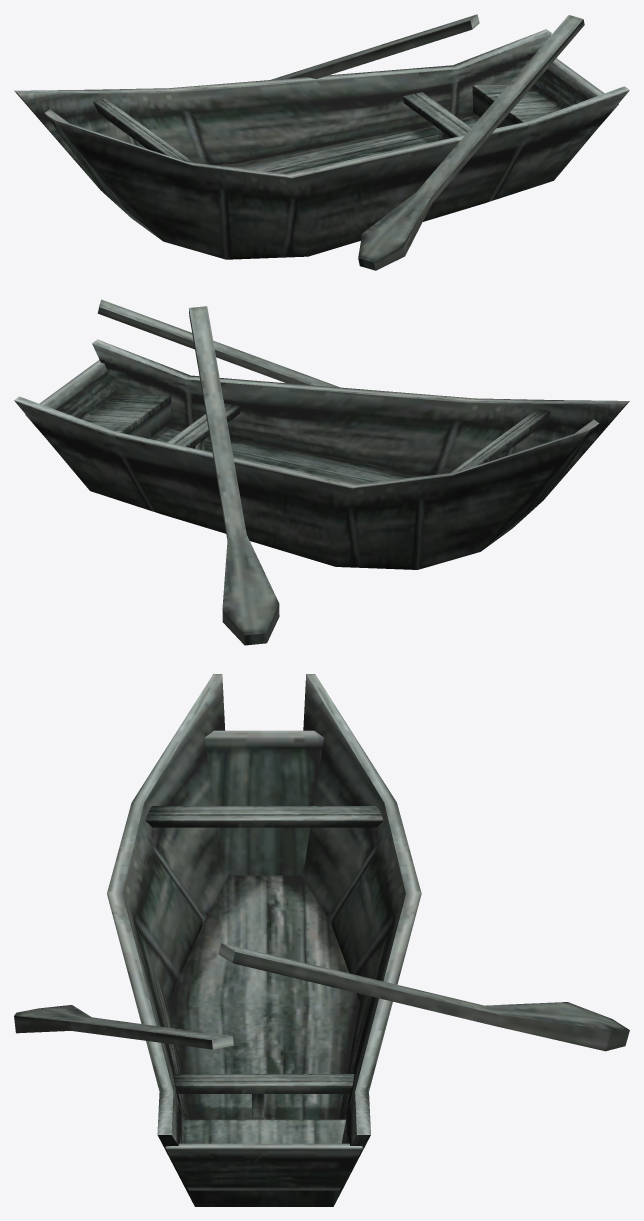
The model's file is general_obj_ferryboat03.fbx.
3 views of the same model, one above another, from view 1: azimuth 30°, elevation 25°; view 2: azimuth 150°, elevation 25°; view 3: azimuth 270°, elevation 25° (orthographic). The views are drawn at different scales.
Parts seen in each view (by area): view 1: Object10; view 2: Object10; view 3: Object10.
Part boxes in pixels (x1=…): Object10: x1=14, y1=14, x2=629, y2=270; Object10: x1=14, y1=299, x2=629, y2=645; Object10: x1=14, y1=674, x2=629, y2=1206.
Bounding box in the file's own units: 5.3 × 1.67 × 3.99.
